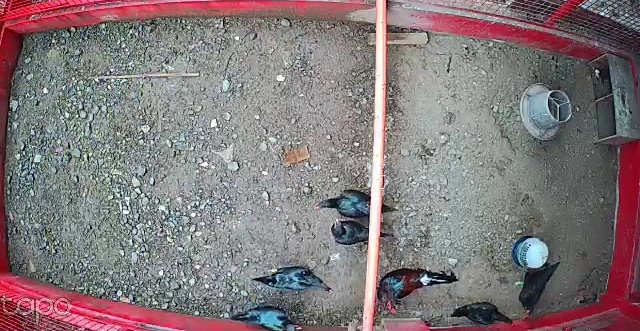Chicken: (310, 184, 401, 222), (512, 261, 562, 321), (250, 263, 336, 295), (327, 215, 398, 246), (230, 304, 307, 331), (446, 299, 516, 328)
Drinker: (511, 234, 551, 269)
Feeder: (518, 82, 574, 142)
Rooster: (377, 261, 458, 317)
